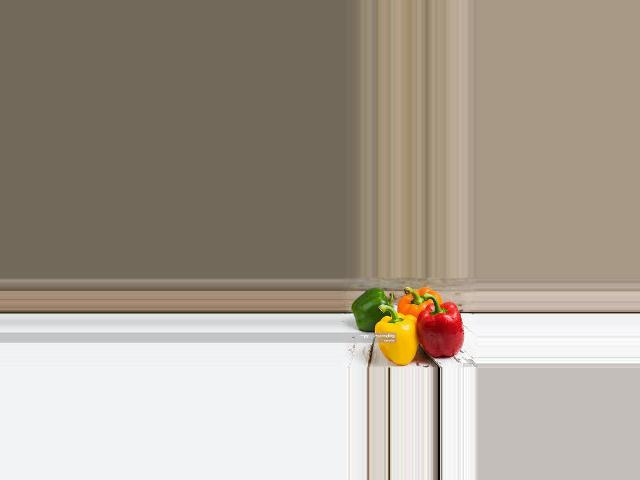bell_pepper: (395, 286, 442, 319)
